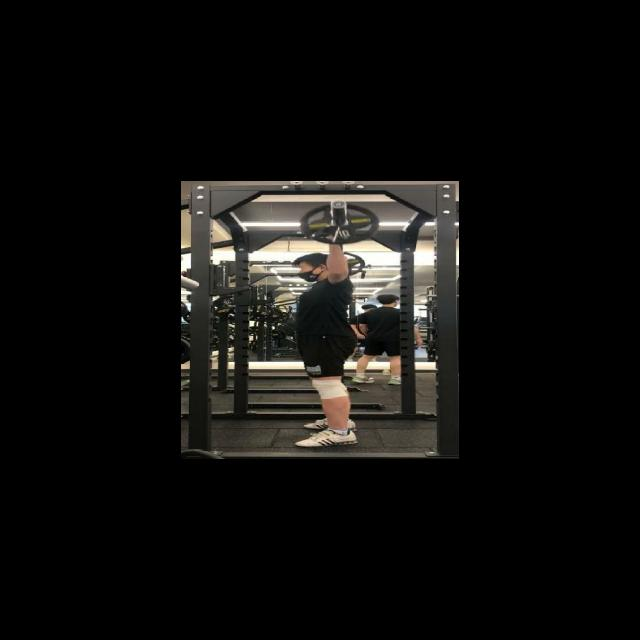barbell: (290, 195, 389, 247)
